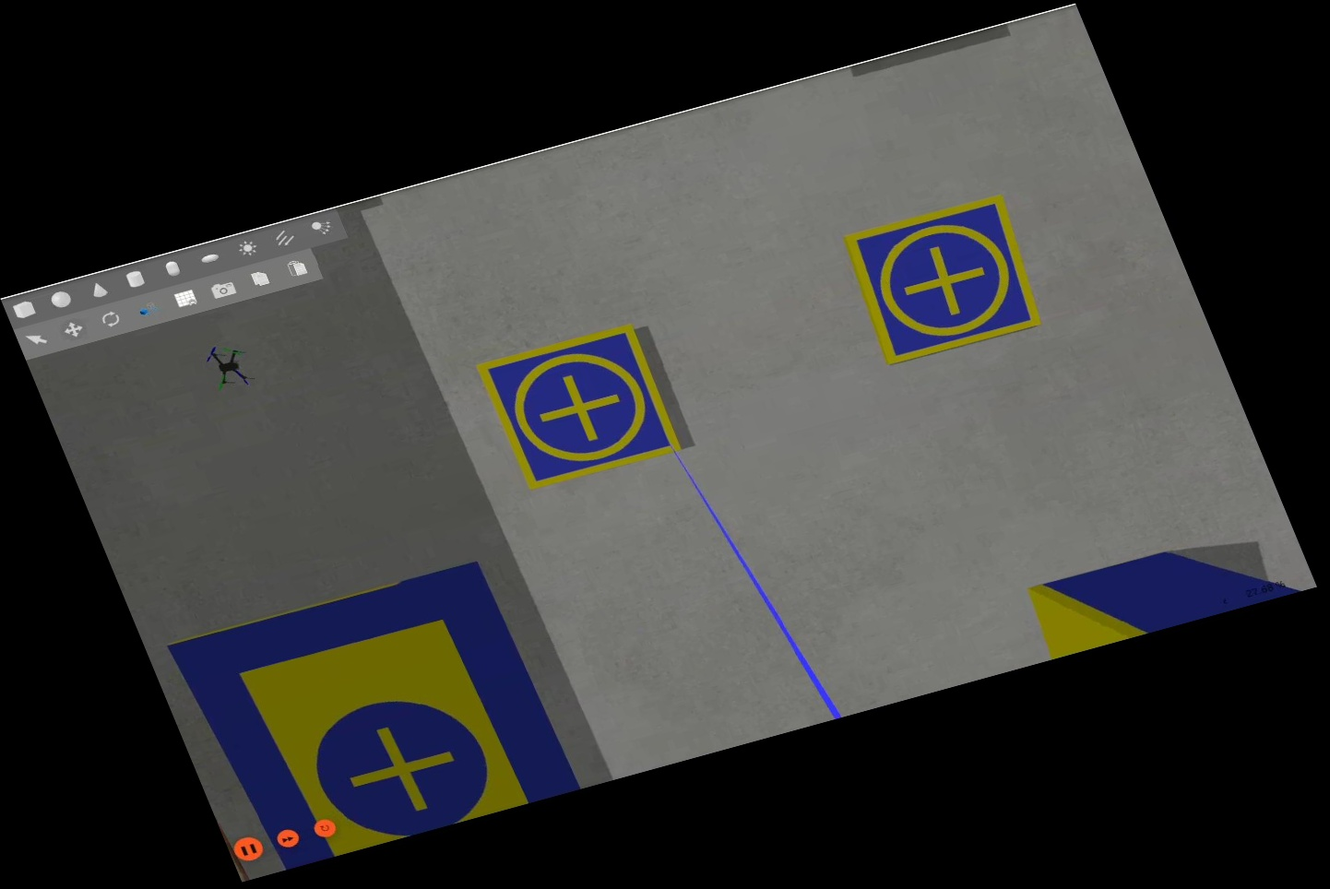large_base: (163, 555, 579, 883)
small_base: (829, 190, 1057, 370), (470, 317, 692, 495)
